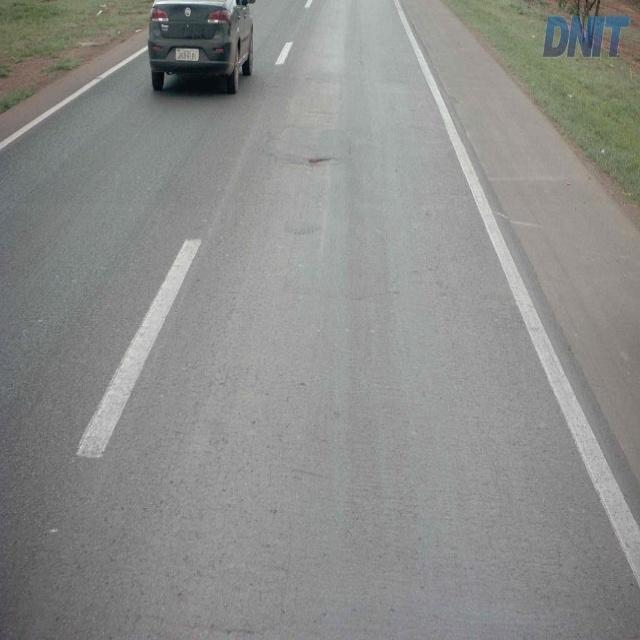pothole: (306, 150, 342, 170)
